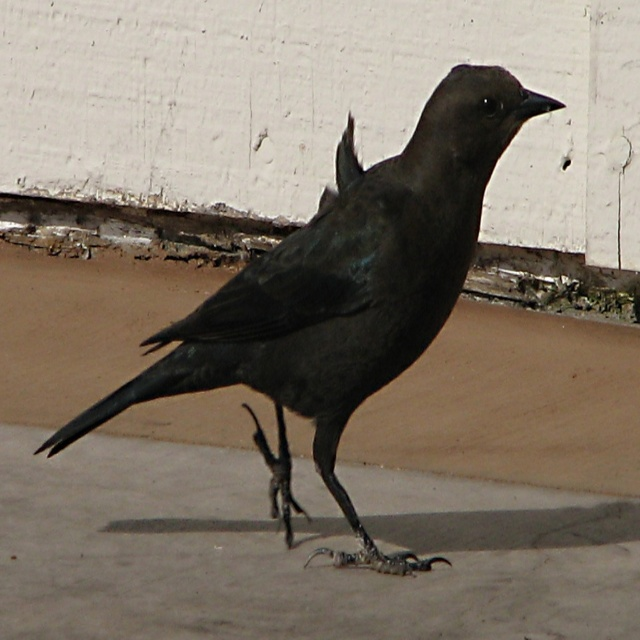Raven: (33, 63, 567, 577)
